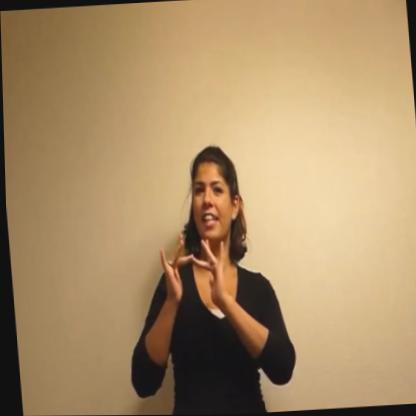Internet: (112, 135, 297, 415)
